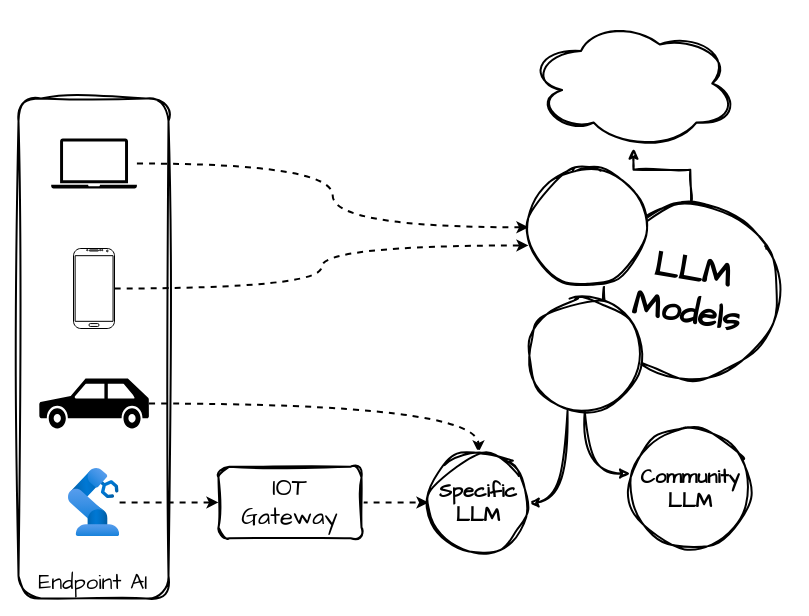
This 809x616 diagram has some shape labels left out. The centre of each missing label's shape, as x and y in pixels:
Non Trainable: (586,226)
Public Cloud: (633,83)
Trainable: (584,354)
